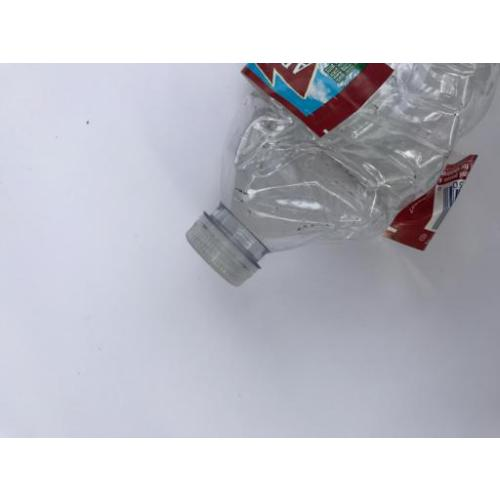plastic: (187, 62, 499, 286)
